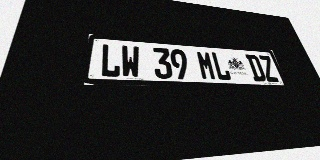3: (153, 47, 173, 79)
9: (169, 49, 190, 79)
D: (245, 54, 267, 82)
L: (100, 43, 120, 78), (210, 52, 232, 81)
M: (196, 51, 217, 80)
W: (121, 45, 140, 78)
Z: (257, 55, 280, 82)
